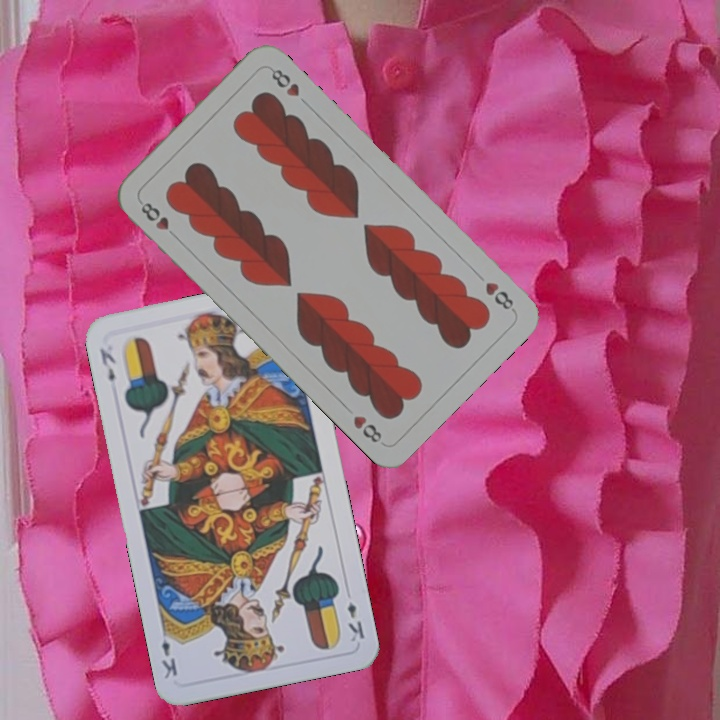EK: (343, 598, 367, 645), (95, 344, 119, 385)
H8: (136, 198, 181, 242), (481, 278, 518, 315)
